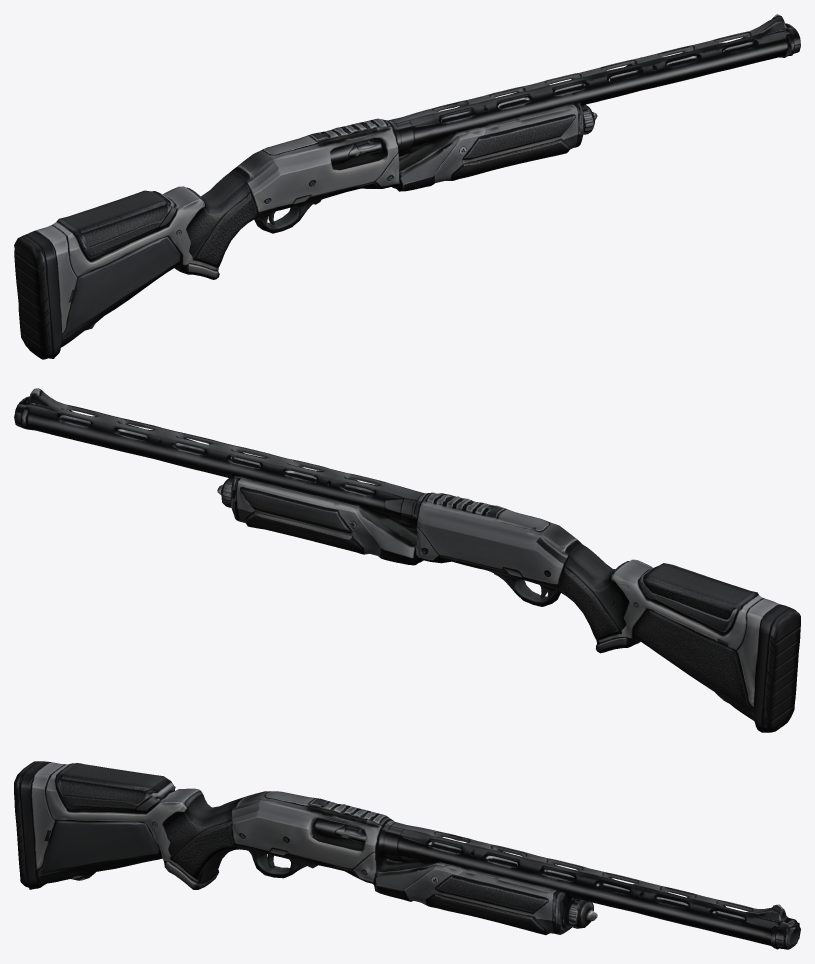
The model's file is tripo_convert_397c124d-0107-425a-a27f-f3141198c40b.fbx.
3 renders of one model, top to bottom at view 1: azimuth 30°, elevation 25°; view 2: azimuth 150°, elevation 25°; view 3: azimuth 330°, elevation 25°, orthographic.
Parts seen in each view (by area): view 1: tripo_node_397c124d; view 2: tripo_node_397c124d; view 3: tripo_node_397c124d.
Part boxes in pixels (x1,y1,x2,y2): tripo_node_397c124d: (14, 14, 800, 359); tripo_node_397c124d: (14, 388, 800, 732); tripo_node_397c124d: (14, 761, 800, 949).
Size of the model in its own units: 98.18 by 6.78 by 19.41.
1 material, 1 textured.
